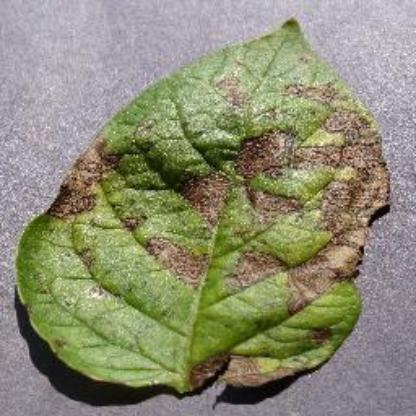Early-Blight: (13, 18, 392, 398)
